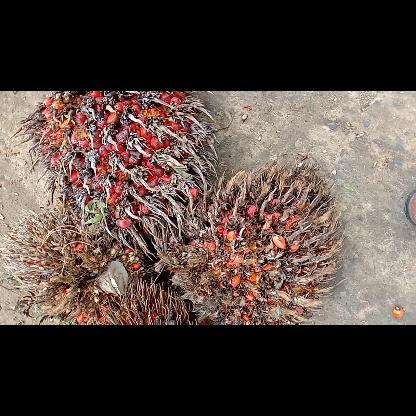Terlalu masak: (9, 91, 220, 253), (168, 156, 348, 324), (0, 202, 194, 324)
